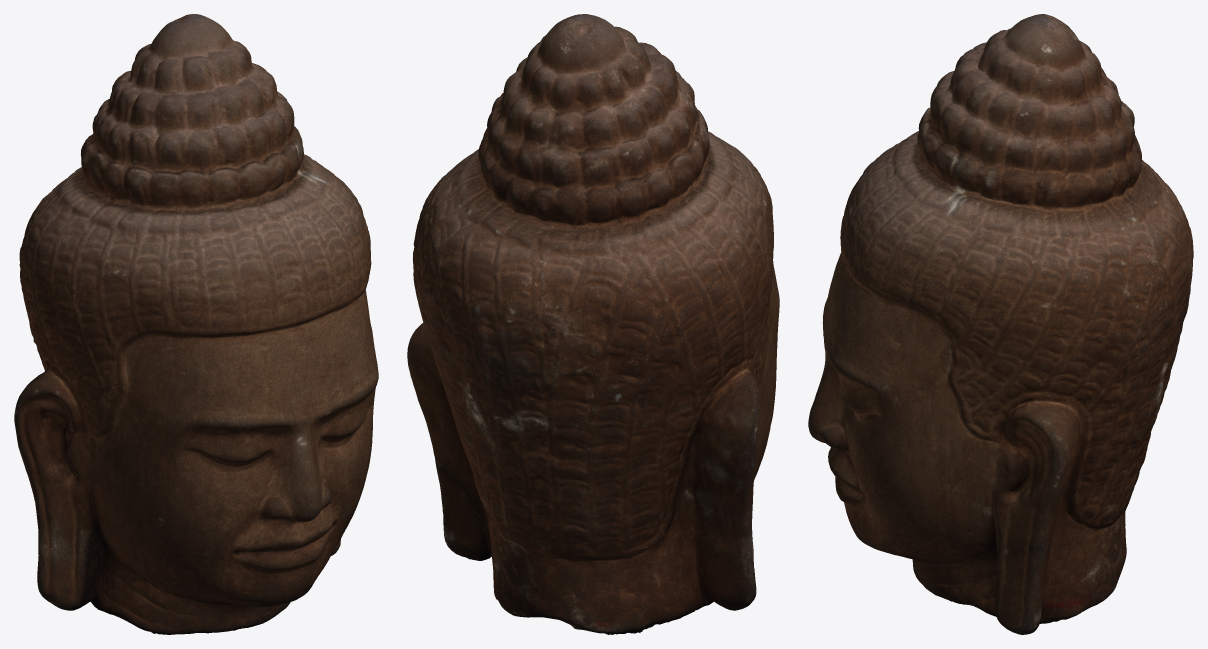
File: budha_head.glb
3 views of the same model, side by side, from view 1: azimuth 30°, elevation 25°; view 2: azimuth 150°, elevation 25°; view 3: azimuth 270°, elevation 25° (orthographic). The views are drawn at different scales.
Parts seen in each view (by area): view 1: Object_2; view 2: Object_2; view 3: Object_2.
Part boxes in pixels (box(x1,y1,x2,y2)): Object_2: box(14, 14, 378, 634); Object_2: box(407, 14, 779, 634); Object_2: box(808, 14, 1193, 634).
Bounding box in the file's own units: 1.83 × 3.01 × 1.84.
Materials: 1 (1 with a texture image).
